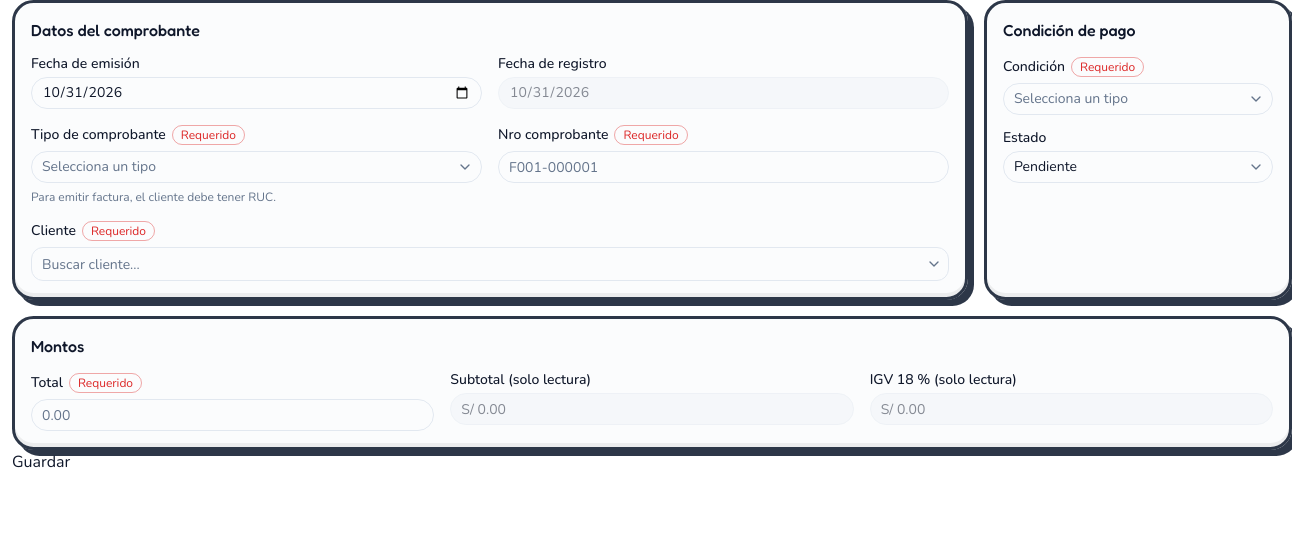
Test case: VoucherForm — venta: tipo de comprobante según el documento › precarga Boleta cuando el cliente no tiene documento (SIN_DOCUMENTO)
Click the dropdown with placeholder "Buscar cliente..." at (476, 264), box [32,248,920,280]
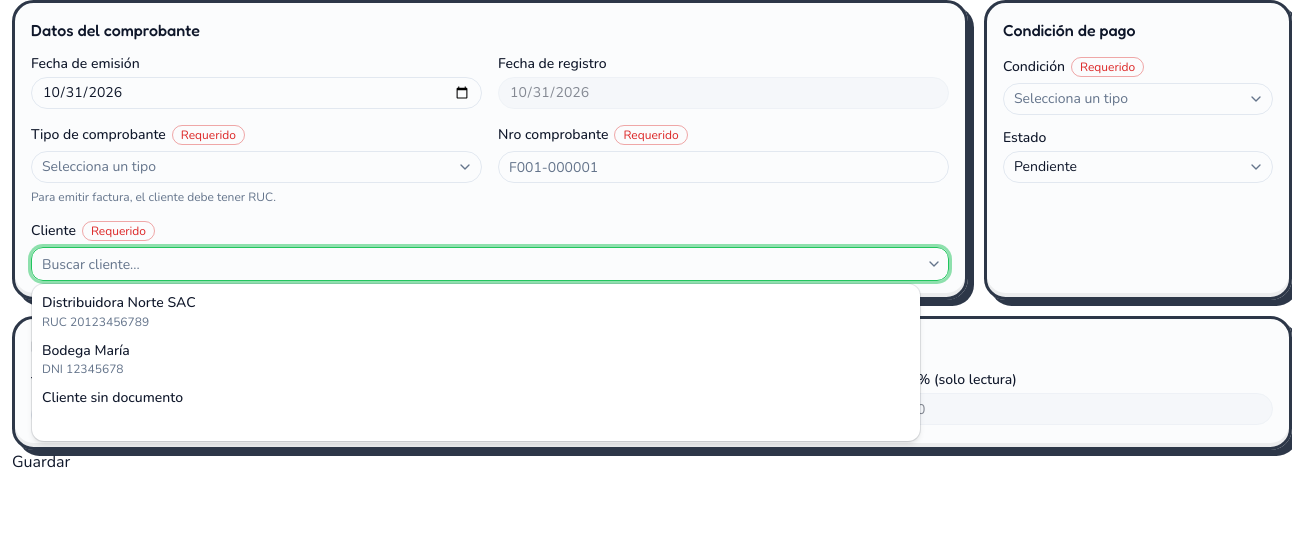
Click the option "Cliente sin documento" at (113, 398), box [42,388,183,407]
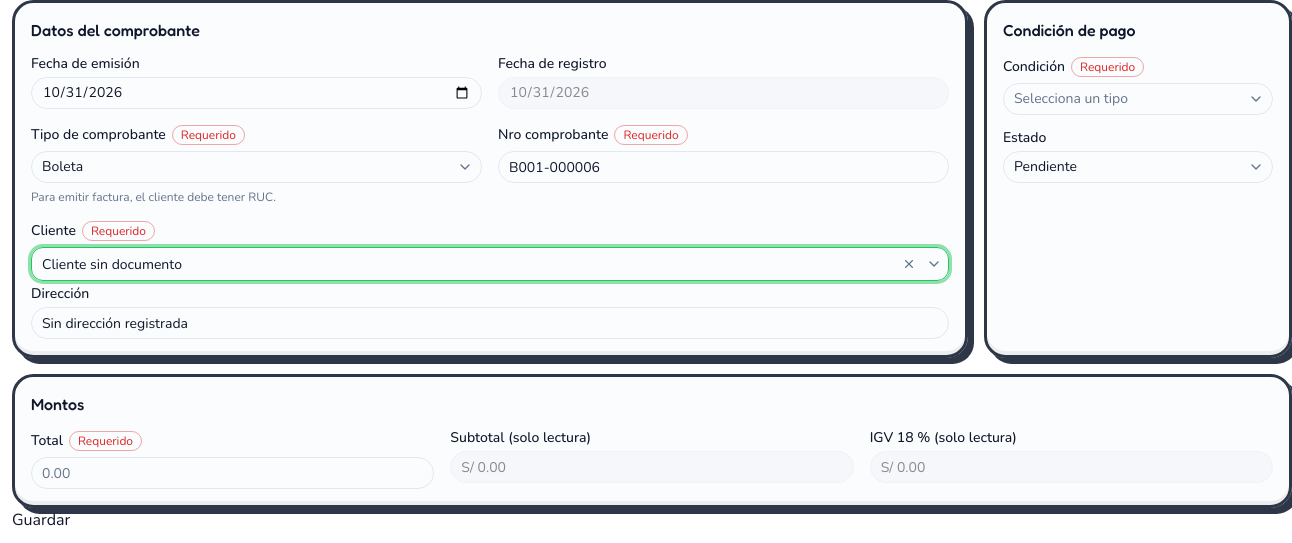
Expected: the text "Para emitir factura, el cliente debe tener RUC." is shown, [31,189,276,205]
Result: the text "Boleta" is shown at [42,157,83,176]
